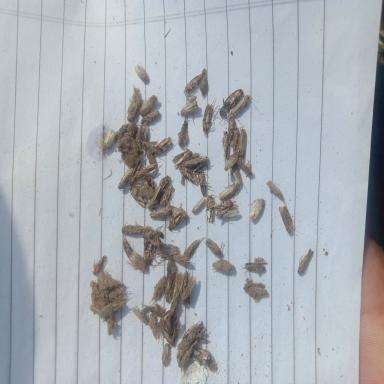pbw: (177, 339, 199, 369), (192, 348, 218, 372), (148, 274, 168, 304), (182, 268, 198, 304), (202, 96, 217, 134), (118, 164, 138, 190), (178, 165, 200, 187), (134, 161, 160, 179), (296, 248, 314, 274), (141, 227, 163, 248), (172, 149, 194, 170), (278, 205, 294, 233), (168, 273, 182, 304), (152, 136, 176, 154), (264, 180, 284, 201), (190, 336, 211, 356), (167, 210, 185, 233), (129, 249, 147, 272), (196, 170, 212, 195), (222, 88, 242, 108), (210, 258, 235, 274), (231, 94, 250, 115), (128, 186, 147, 207), (140, 94, 158, 116), (142, 143, 159, 166), (248, 197, 265, 220), (166, 204, 190, 220), (204, 238, 222, 258), (132, 306, 150, 326), (218, 183, 239, 200), (159, 185, 175, 207), (90, 254, 106, 276), (177, 115, 188, 147), (146, 185, 160, 210), (216, 204, 239, 219), (158, 326, 176, 345), (240, 261, 266, 274), (204, 194, 216, 222), (184, 74, 202, 92), (148, 313, 160, 340), (183, 239, 201, 257), (156, 309, 173, 328), (139, 110, 158, 127), (224, 150, 240, 170), (132, 64, 149, 82), (180, 100, 199, 116), (143, 236, 153, 266), (238, 158, 253, 178), (237, 128, 247, 157), (184, 156, 208, 168), (149, 208, 173, 220), (121, 223, 145, 235), (102, 129, 116, 149), (136, 183, 155, 197), (157, 244, 179, 256), (199, 68, 209, 94), (230, 163, 242, 184), (213, 198, 235, 209), (161, 342, 170, 368), (183, 88, 197, 104), (191, 197, 205, 213), (122, 236, 132, 258), (173, 252, 191, 264), (228, 115, 235, 145), (143, 172, 155, 189), (158, 175, 171, 190), (222, 130, 229, 156), (232, 125, 238, 153), (171, 296, 179, 316)
